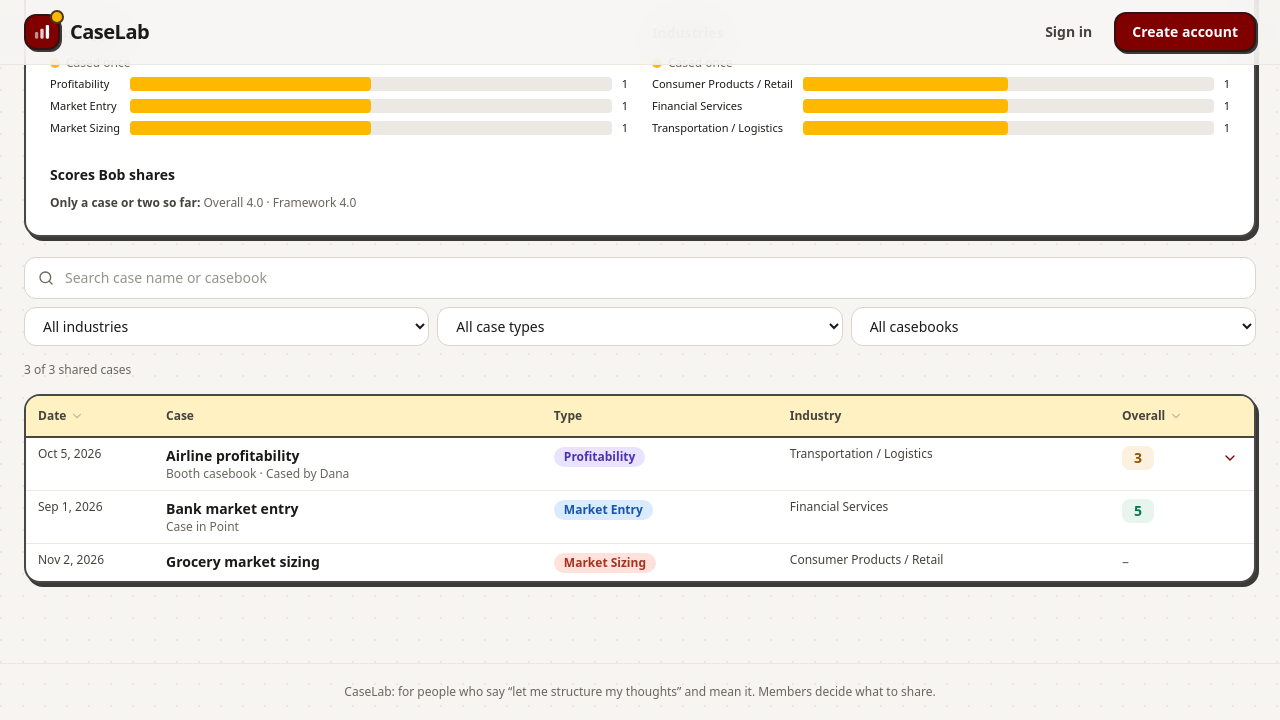
Test: a case history read as a table, where the page is one full-width column › keeps the skills, the tag and anything written one click away, and off the row until then
The width and height of the screenshot is (1280, 720).
(page scrolled)
Expected: the table is shown, left=26, top=396, right=1254, bottom=580
Expected: the text "OPEN-FEEDBACK" is not shown
Step 1. Click the button named "Details for Airline profitability" → (1230, 458), box left=1218, top=446, right=1242, bottom=470
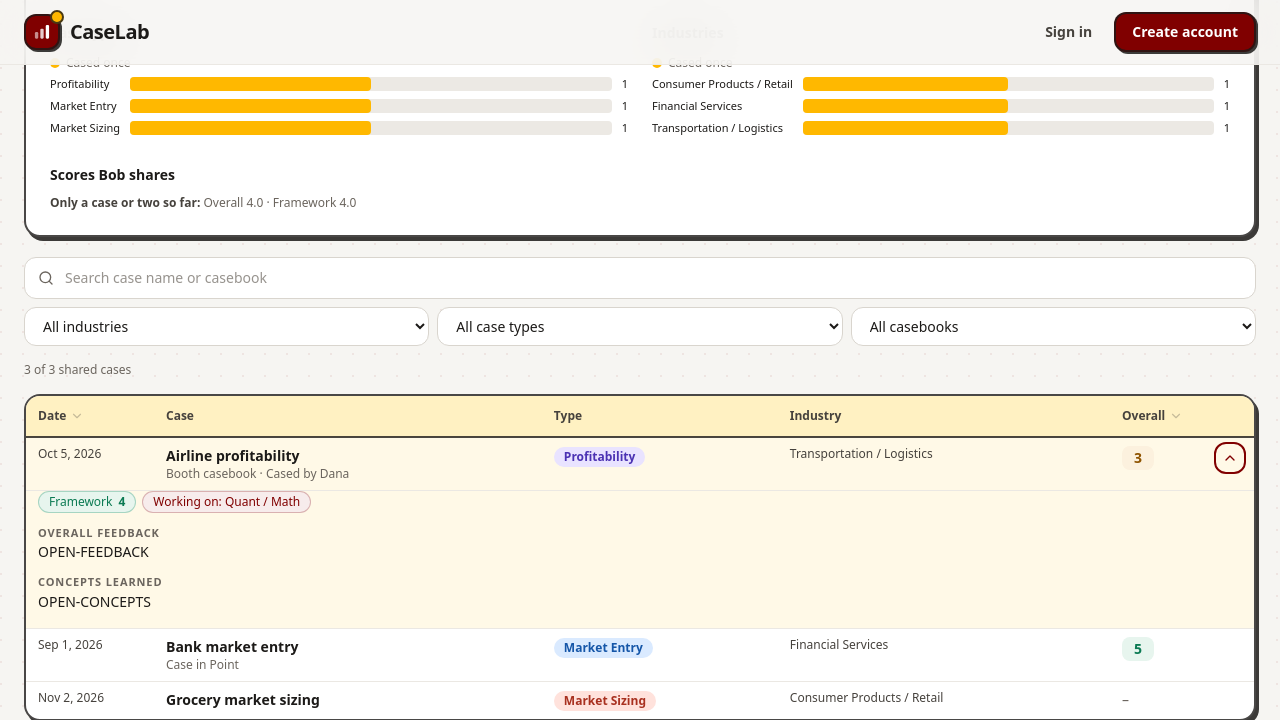
Expected: the button named "Details for Airline profitability" is expanded
Expected: the text "OPEN-FEEDBACK" shows "Framework 4", left=26, top=490, right=1254, bottom=628
Expected: the text "OPEN-FEEDBACK" shows "Working on: Quant / Math", left=26, top=490, right=1254, bottom=628
Step 2. Click the button named "Details for Airline profitability" → (1230, 458), box left=1218, top=446, right=1242, bottom=470
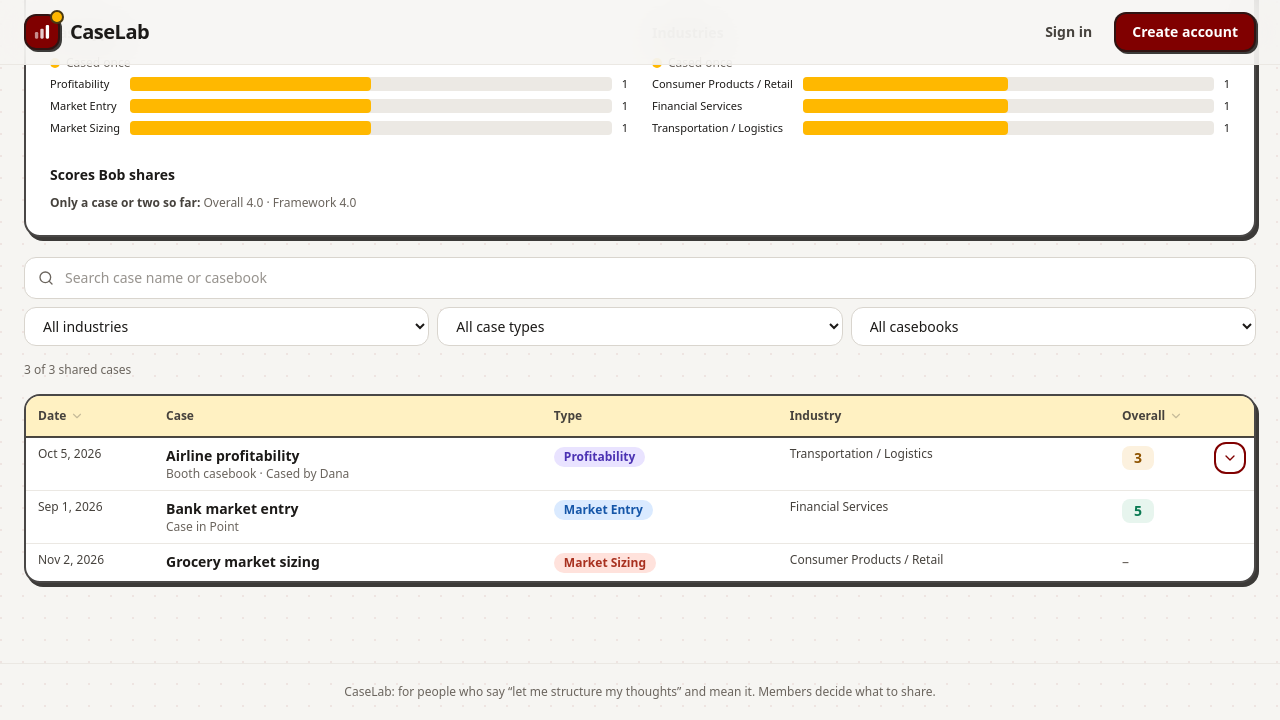
Expected: the text "OPEN-FEEDBACK" is gone
